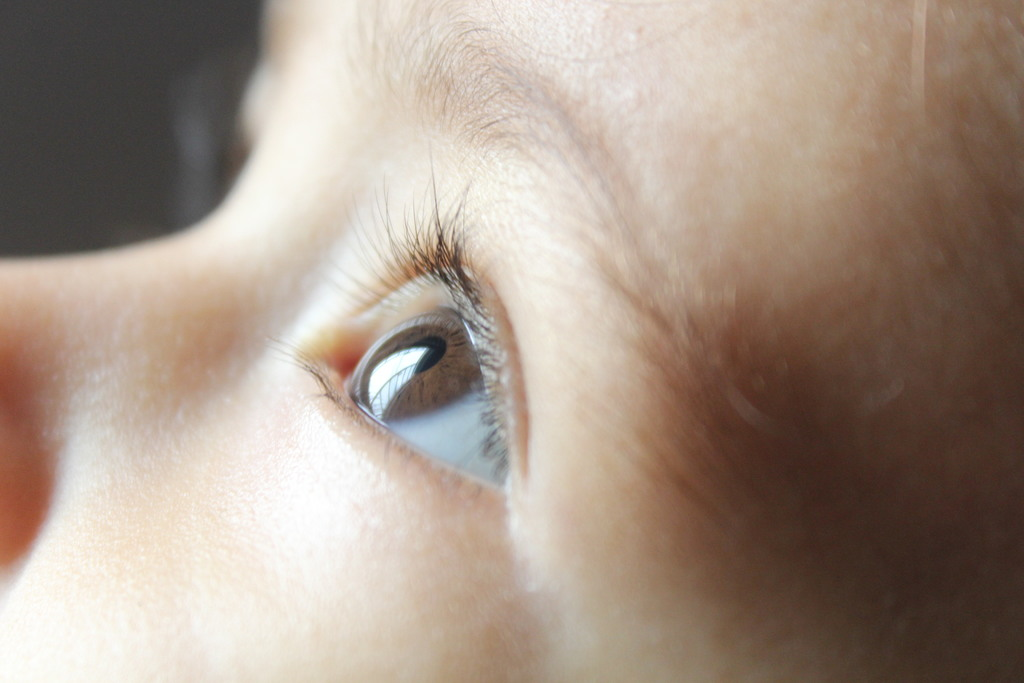Person: (0, 0, 1023, 682)
